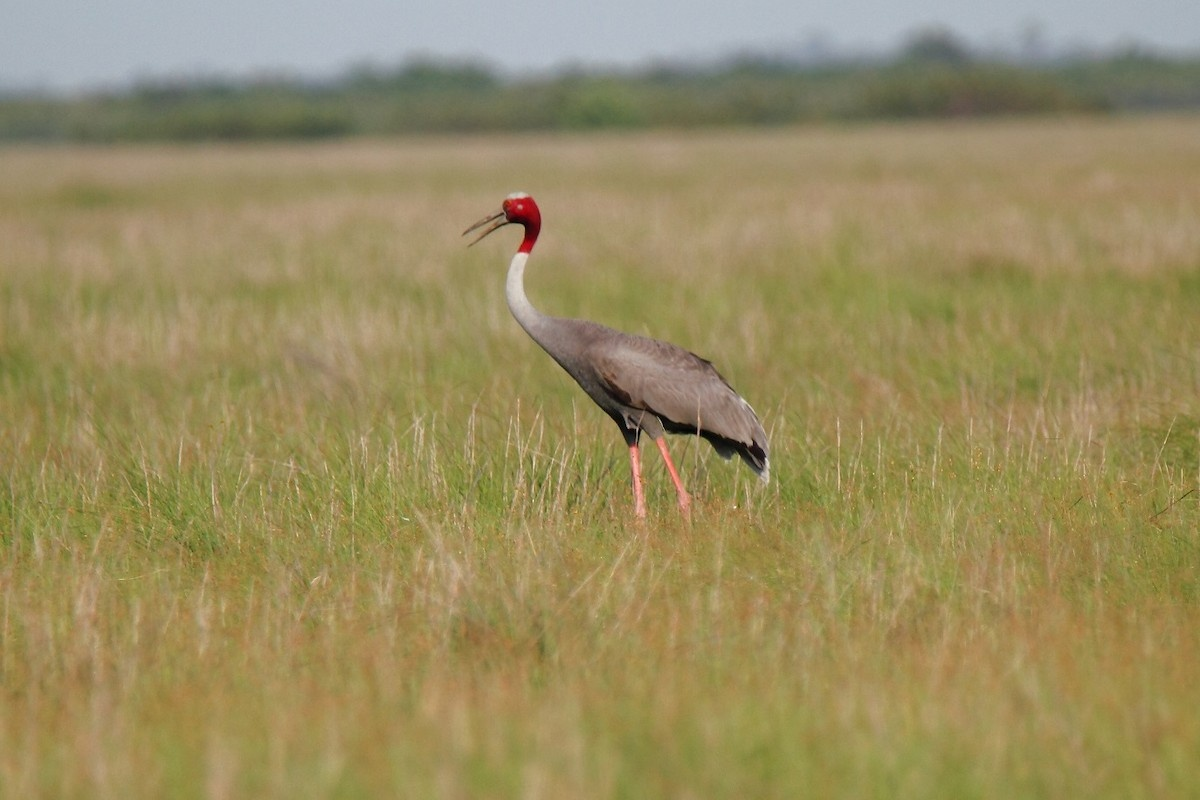crane: (460, 181, 788, 524)
